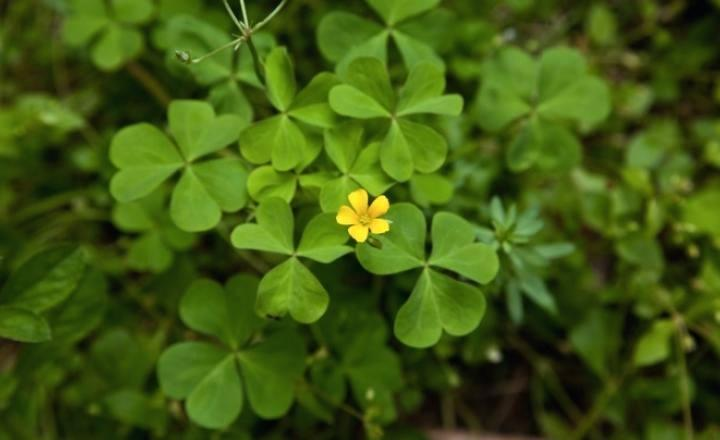oxalis: (127, 58, 580, 440)
